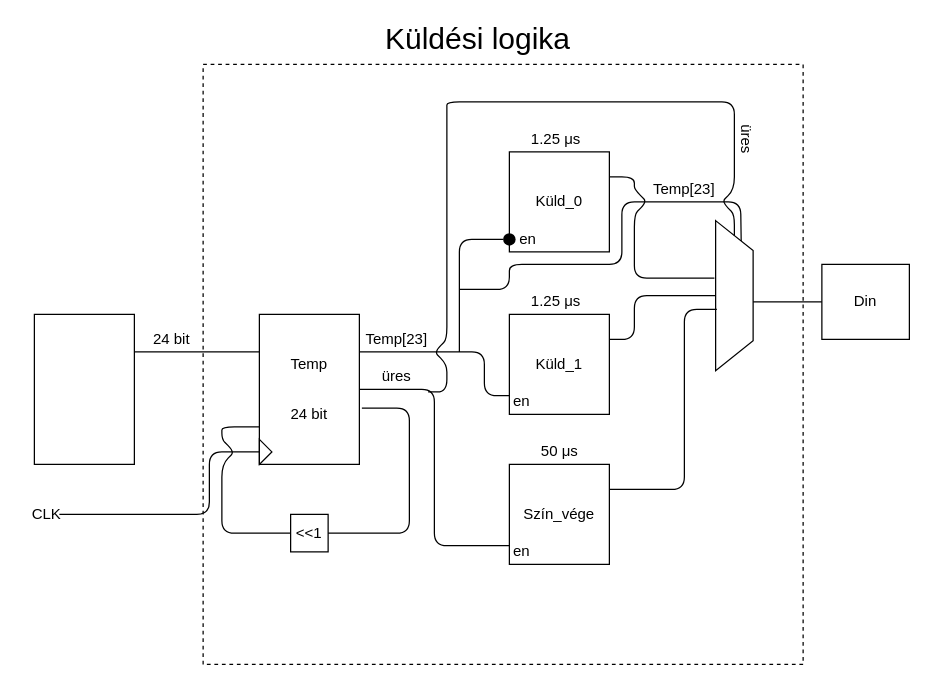
This 931x686 diagram has some shape labels left out. The shapes that lost their labels are listed below. From the top down, each one's box as (x1, y1, x2, y2) in pixels, then its label:
(714, 219, 753, 371): MUX
(33, 313, 134, 464): Színregiszter
